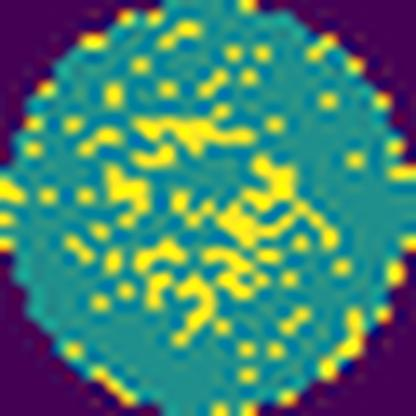Donut: (55, 63, 354, 343)
